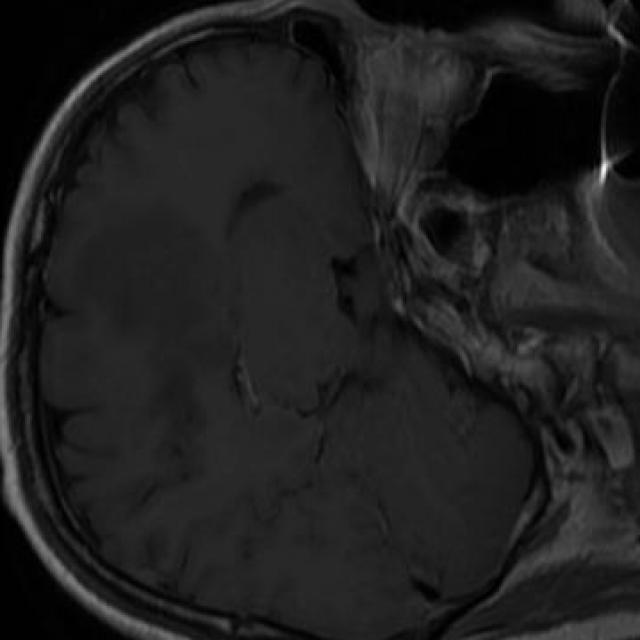glioma: (98, 210, 210, 458)
